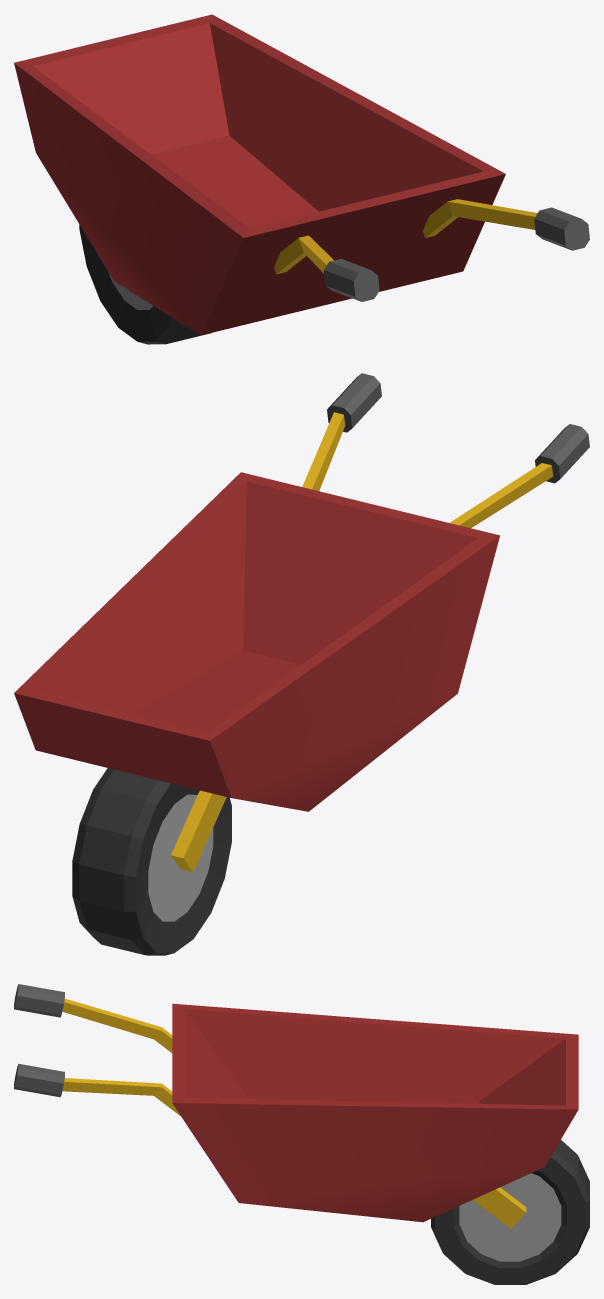
Rendered from Telejka.fbx.
The picture shows the model from 3 angles, top to bottom: view 1: azimuth 30°, elevation 25°; view 2: azimuth 150°, elevation 25°; view 3: azimuth 270°, elevation 25°; orthographic projection. The views are drawn at different scales.
Visible parts, largest first — view 1: Telejka; view 2: Telejka; view 3: Telejka.
Part boxes in pixels (x1,y1,x2,y2): Telejka: (14, 14, 589, 344); Telejka: (14, 373, 589, 955); Telejka: (14, 984, 589, 1284).
Size of the model in its own units: 0.7402 by 0.8602 by 1.81.
